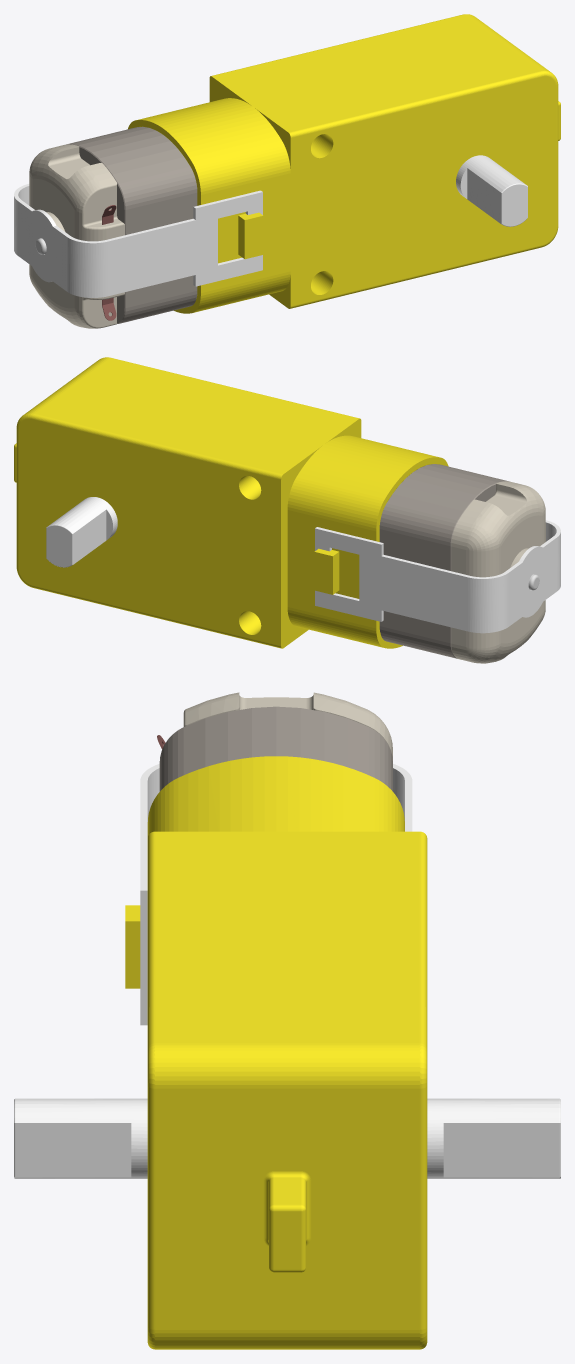
Rendered from motor.dae.
3 views of the same model, one above another, from view 1: azimuth 30°, elevation 25°; view 2: azimuth 150°, elevation 25°; view 3: azimuth 270°, elevation 25° (orthographic). The views are drawn at different scales.
Parts seen in each view (by area): view 1: 5b181629f4e9131150886d4c (×5); view 2: 5b181629f4e9131150886d4c (×5); view 3: 5b181629f4e9131150886d4c (×6).
Part boxes in pixels (x1,y1,x2,y2): 5b181629f4e9131150886d4c (×5): (14, 14, 560, 328); 5b181629f4e9131150886d4c (×5): (14, 357, 560, 663); 5b181629f4e9131150886d4c (×6): (14, 692, 560, 1349).
Size of the model in its own units: 0.0697 by 0.0368 by 0.0225.
